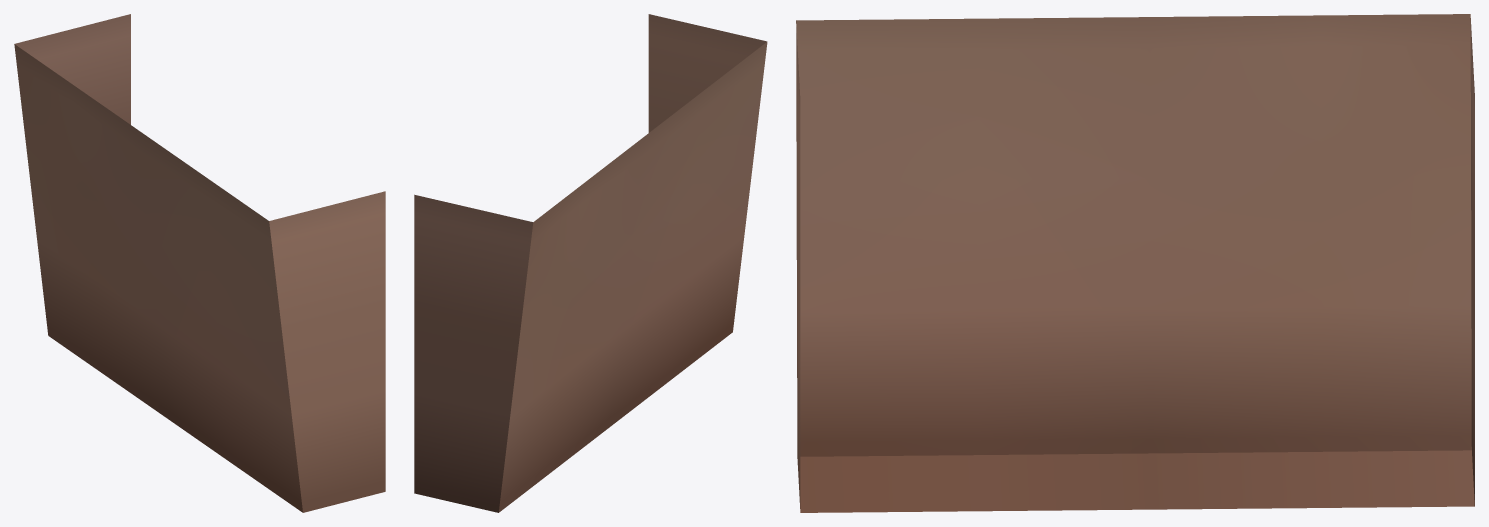
The model's file is object_514_lev3.glb.
3 views of the same model, side by side, from view 1: azimuth 30°, elevation 25°; view 2: azimuth 150°, elevation 25°; view 3: azimuth 270°, elevation 25° (orthographic). The views are drawn at different scales.
Parts seen in each view (by area): view 1: object_514_lev3; view 2: object_514_lev3; view 3: object_514_lev3.
Part boxes in pixels (x1=…): object_514_lev3: x1=14, y1=14, x2=385, y2=512; object_514_lev3: x1=414, y1=14, x2=767, y2=512; object_514_lev3: x1=796, y1=14, x2=1474, y2=512.
Bounding box in the file's own units: 0.0613 × 0.1379 × 0.2051.
Materials: 1 (1 with a texture image).
